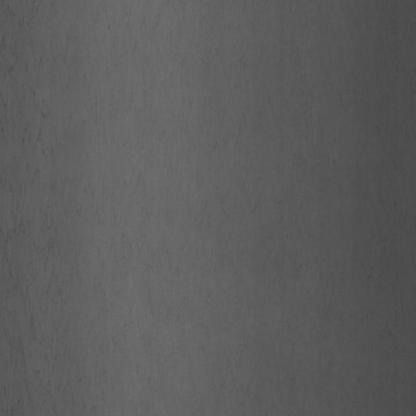silk_spot: (7, 122, 70, 363)
